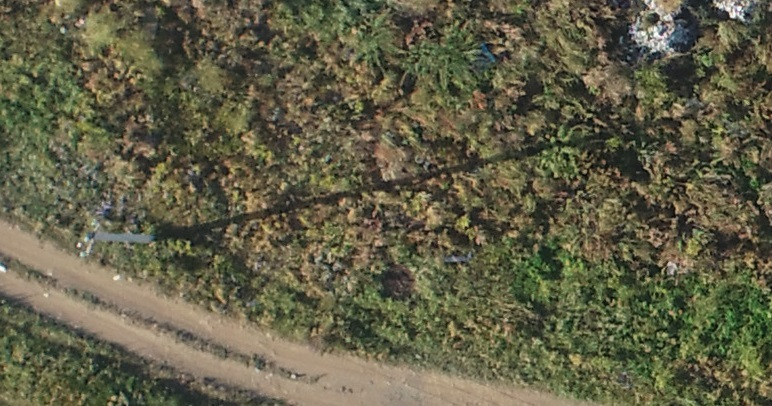opora: (78, 217, 218, 256)
